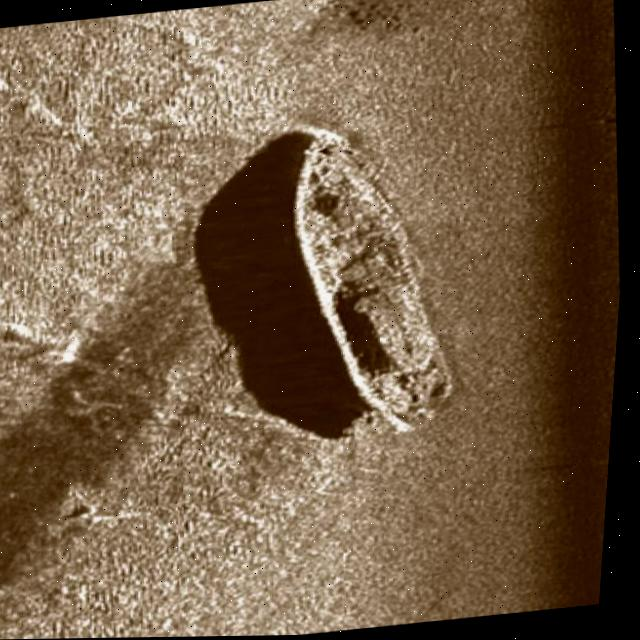shipwreck: (270, 112, 476, 443)
